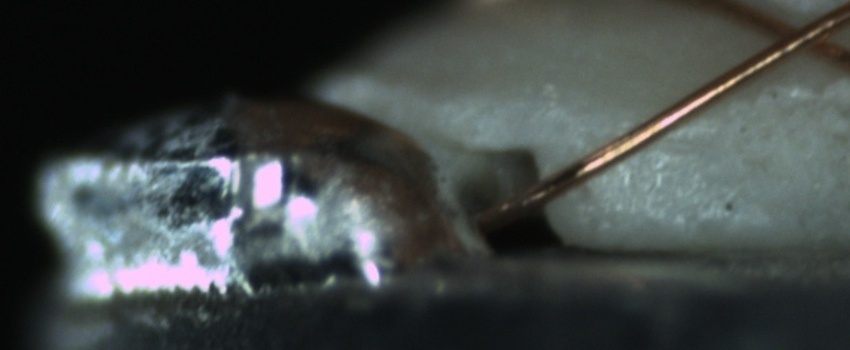CL: (753, 3, 842, 66)
DL: (627, 115, 715, 169)
